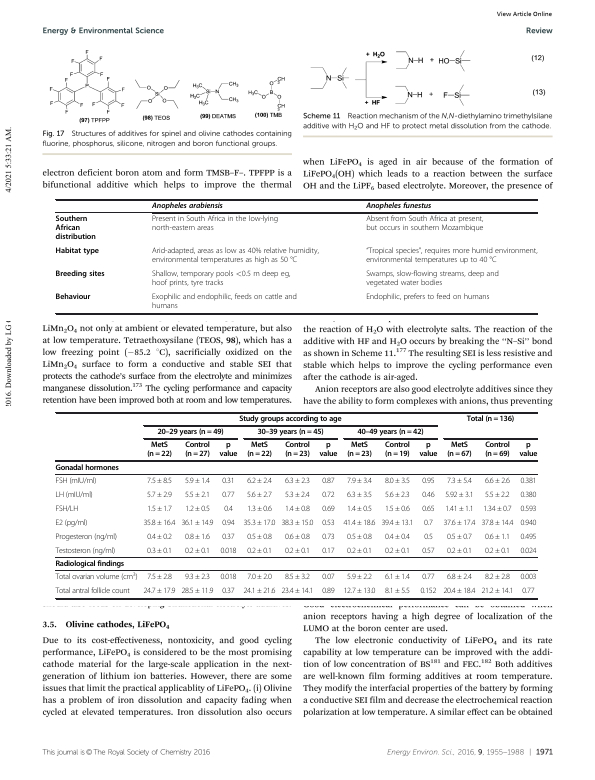borderless: (54, 411, 537, 598), (54, 198, 537, 313)
cell: (365, 247, 538, 266), (151, 247, 320, 266), (151, 293, 298, 312), (151, 270, 291, 289), (365, 270, 500, 289), (151, 215, 279, 234), (365, 215, 484, 234), (365, 293, 490, 303), (54, 215, 97, 243), (238, 415, 342, 424), (55, 571, 138, 582), (256, 428, 325, 438), (55, 587, 131, 596), (156, 428, 224, 438), (356, 428, 424, 438), (151, 202, 224, 211), (55, 463, 120, 473), (55, 532, 118, 542), (55, 560, 125, 569), (55, 546, 116, 556), (365, 202, 432, 211), (54, 270, 106, 280), (146, 441, 173, 460), (184, 441, 211, 460), (246, 441, 273, 460), (284, 441, 311, 460), (346, 441, 373, 460), (384, 441, 411, 460), (446, 441, 473, 460), (484, 441, 511, 460), (54, 247, 100, 257), (466, 415, 515, 424), (55, 476, 97, 486), (55, 490, 94, 500), (318, 441, 338, 460), (418, 441, 438, 460), (518, 441, 538, 460), (54, 293, 91, 303), (219, 441, 238, 460), (142, 518, 176, 528), (180, 518, 214, 528), (242, 518, 276, 528), (280, 518, 314, 528), (342, 518, 376, 528), (380, 518, 414, 528), (442, 518, 476, 528), (480, 518, 514, 528), (55, 518, 88, 528), (444, 504, 475, 514), (482, 504, 513, 514), (142, 587, 176, 596), (180, 587, 214, 596), (242, 587, 276, 596), (280, 587, 314, 596), (342, 587, 376, 596), (442, 587, 476, 596), (480, 587, 514, 596), (444, 490, 474, 500), (146, 476, 173, 486), (184, 476, 211, 486), (246, 476, 273, 486), (284, 476, 311, 486), (346, 476, 373, 486), (384, 476, 411, 486), (446, 476, 473, 486), (484, 476, 511, 486), (146, 490, 173, 500), (184, 490, 211, 500), (246, 490, 273, 500), (284, 490, 311, 500), (346, 490, 373, 500), (384, 490, 411, 500), (484, 490, 511, 500), (146, 504, 173, 514), (184, 504, 211, 514), (246, 504, 273, 514), (284, 504, 311, 514), (346, 504, 373, 514), (384, 504, 411, 514), (146, 532, 173, 542), (184, 532, 211, 542), (246, 532, 273, 542), (284, 532, 311, 542), (346, 532, 373, 542), (384, 532, 411, 542), (446, 532, 473, 542), (484, 532, 511, 542), (146, 546, 173, 556), (184, 546, 211, 556), (246, 546, 273, 556), (284, 546, 311, 556), (346, 546, 373, 556), (384, 546, 411, 556), (446, 546, 473, 556), (484, 546, 511, 556), (146, 573, 173, 582), (184, 573, 211, 582), (246, 573, 273, 582), (284, 573, 311, 582), (346, 573, 373, 582), (384, 573, 411, 582), (446, 573, 473, 582), (484, 573, 511, 582), (384, 587, 411, 596), (55, 504, 79, 514), (519, 476, 537, 486), (519, 490, 537, 500), (519, 504, 537, 514), (519, 518, 537, 528), (519, 532, 537, 542), (219, 546, 237, 556), (519, 546, 537, 556), (219, 573, 237, 582), (519, 573, 537, 582), (419, 587, 437, 596), (221, 476, 236, 486), (321, 476, 336, 486), (321, 504, 336, 514), (421, 504, 436, 514), (321, 518, 336, 528), (221, 532, 236, 542), (321, 532, 336, 542), (321, 546, 336, 556), (421, 476, 435, 486), (221, 490, 235, 500), (321, 490, 335, 500), (421, 490, 435, 500), (221, 518, 235, 528), (421, 546, 435, 556), (321, 573, 336, 582), (321, 587, 336, 596), (421, 573, 435, 582), (221, 587, 235, 596), (521, 587, 535, 596), (223, 504, 234, 514), (423, 518, 434, 528), (423, 532, 434, 542)
